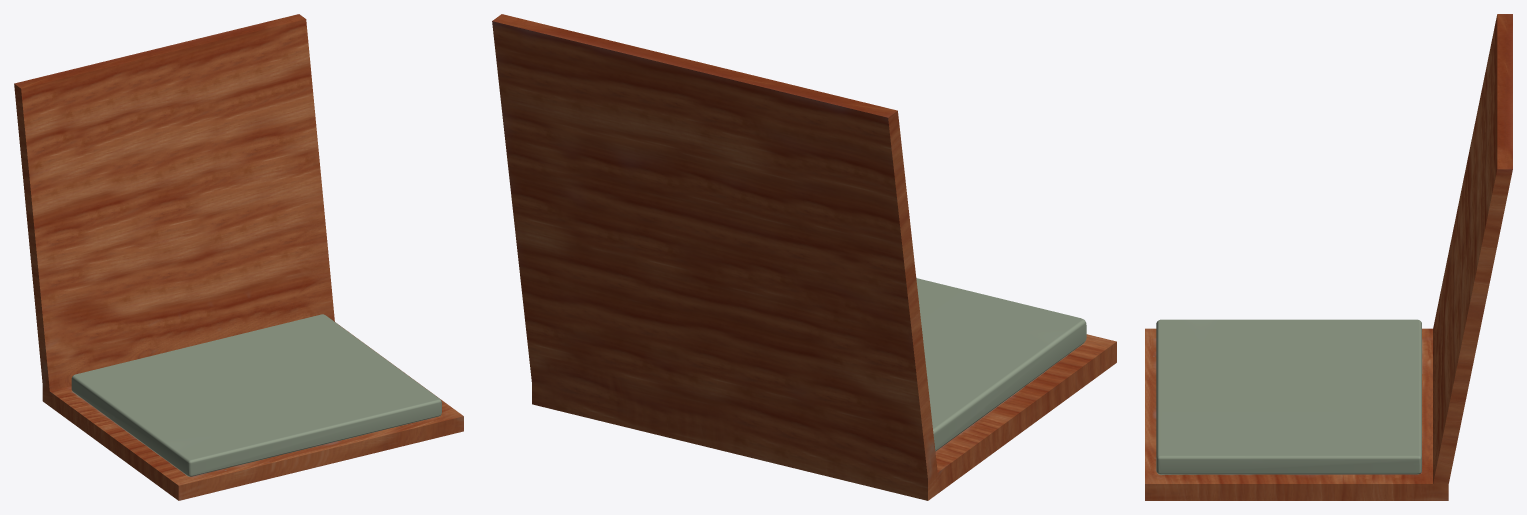
Rendered from tatamiChair.fbx.
3 renders of one model, left to right at view 1: azimuth 30°, elevation 25°; view 2: azimuth 150°, elevation 25°; view 3: azimuth 270°, elevation 25°, orthographic. The views are drawn at different scales.
Visible parts, largest first — view 1: pCube3; view 2: pCube3; view 3: pCube3.
Boxes of the visible parts, <box> form: pCube3: <box>14,14,463,500</box>; pCube3: <box>492,14,1116,500</box>; pCube3: <box>1145,14,1512,500</box>.
Size of the model in its own units: 46 by 45.77 by 46.03.
